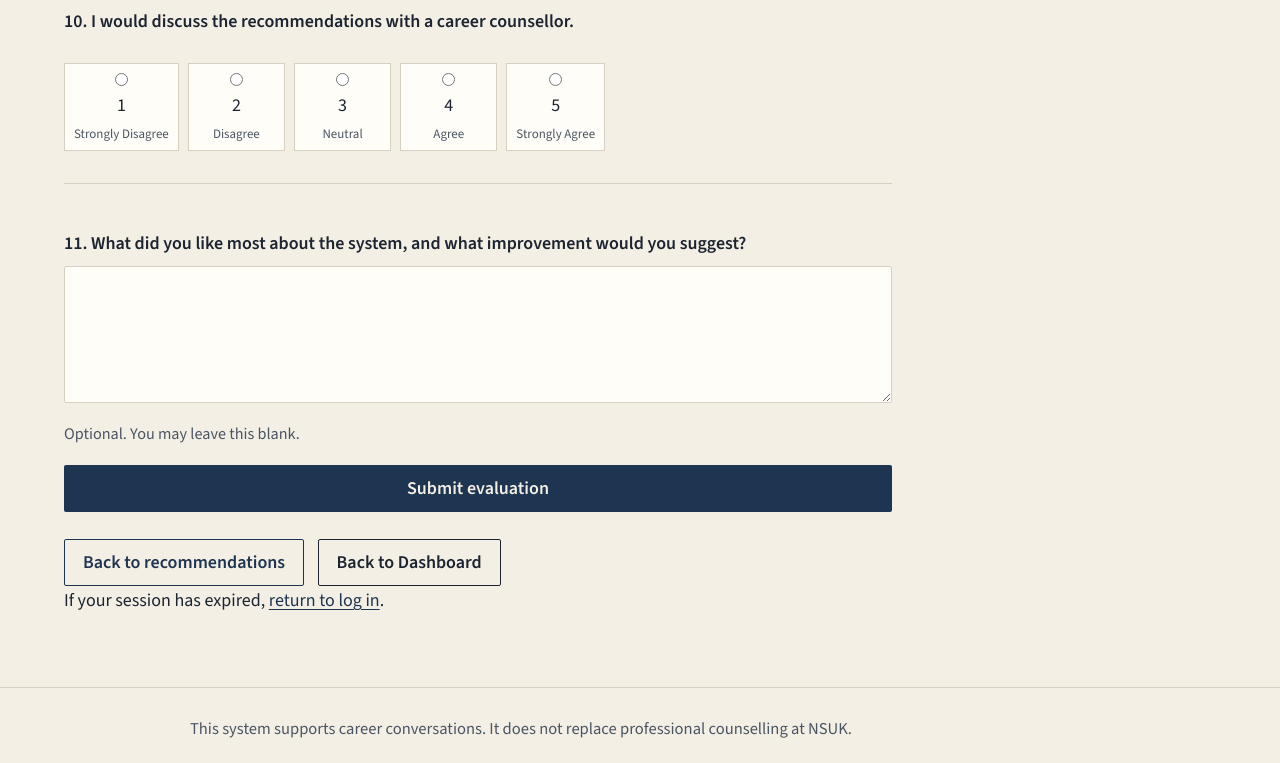
requires every scaled answer before submit
The width and height of the screenshot is (1280, 763).
(page scrolled)
Click the button "Submit evaluation": point(478, 489) [64, 465, 892, 512]
(page scrolled)
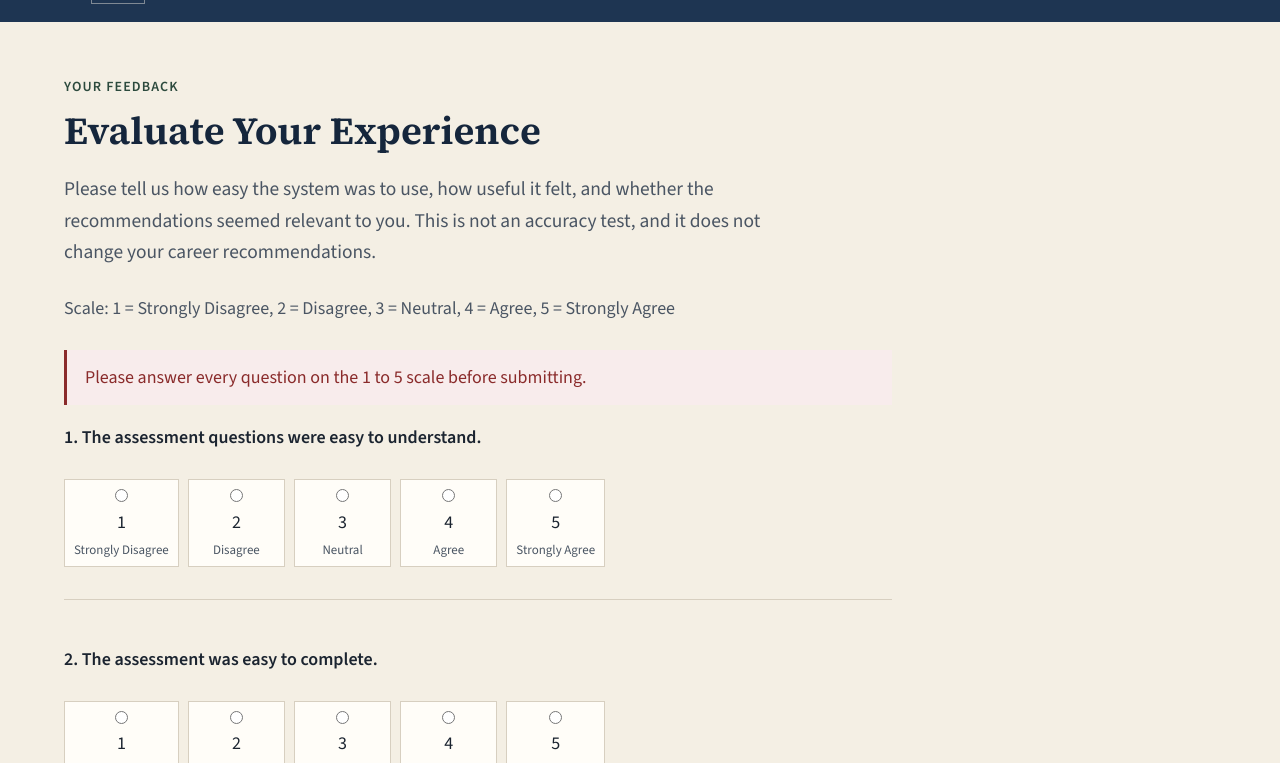
Check: the message shows "Please answer every question on the 1 to 5 scale", box [85, 365, 586, 389]
